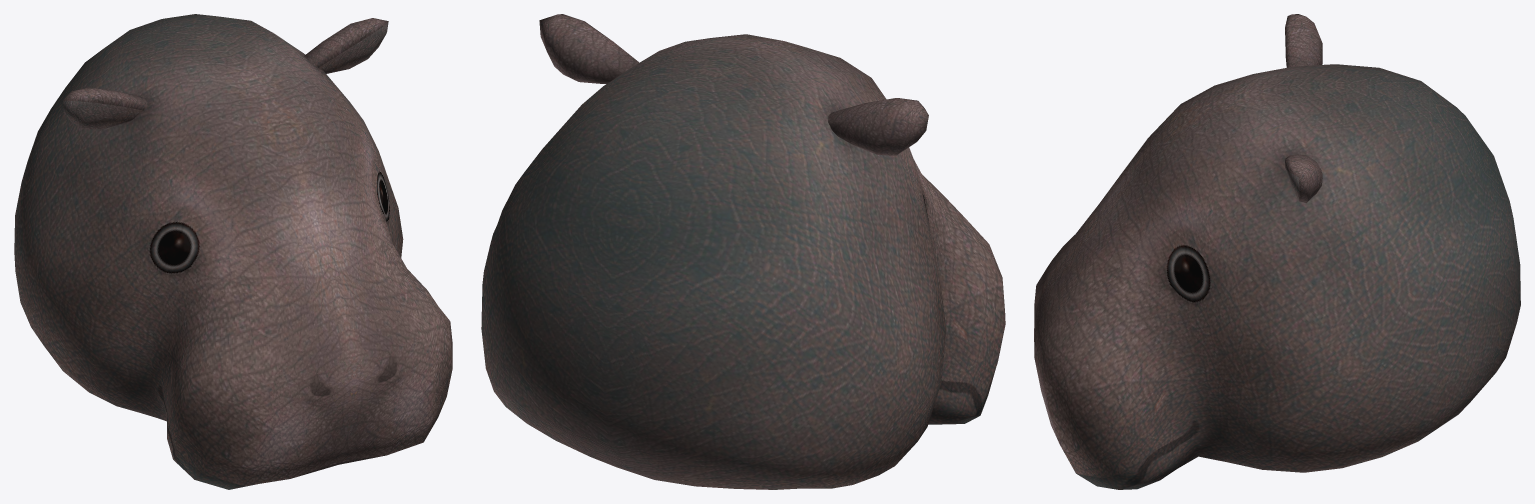
Rendered from CRT0110014.FBX.
The picture shows the model from 3 angles, left to right: view 1: azimuth 30°, elevation 25°; view 2: azimuth 150°, elevation 25°; view 3: azimuth 270°, elevation 25°; orthographic projection. The views are drawn at different scales.
Parts seen in each view (by area): view 1: smCRT0110014; view 2: smCRT0110014; view 3: smCRT0110014.
Part boxes in pixels (x1,y1,x2,y2): smCRT0110014: (14,14,452,489); smCRT0110014: (481,14,1005,489); smCRT0110014: (1034,14,1520,489).
Bounding box in the file's own units: 0.1255 × 0.1221 × 0.1522.
Materials: 1 (1 with a texture image).
